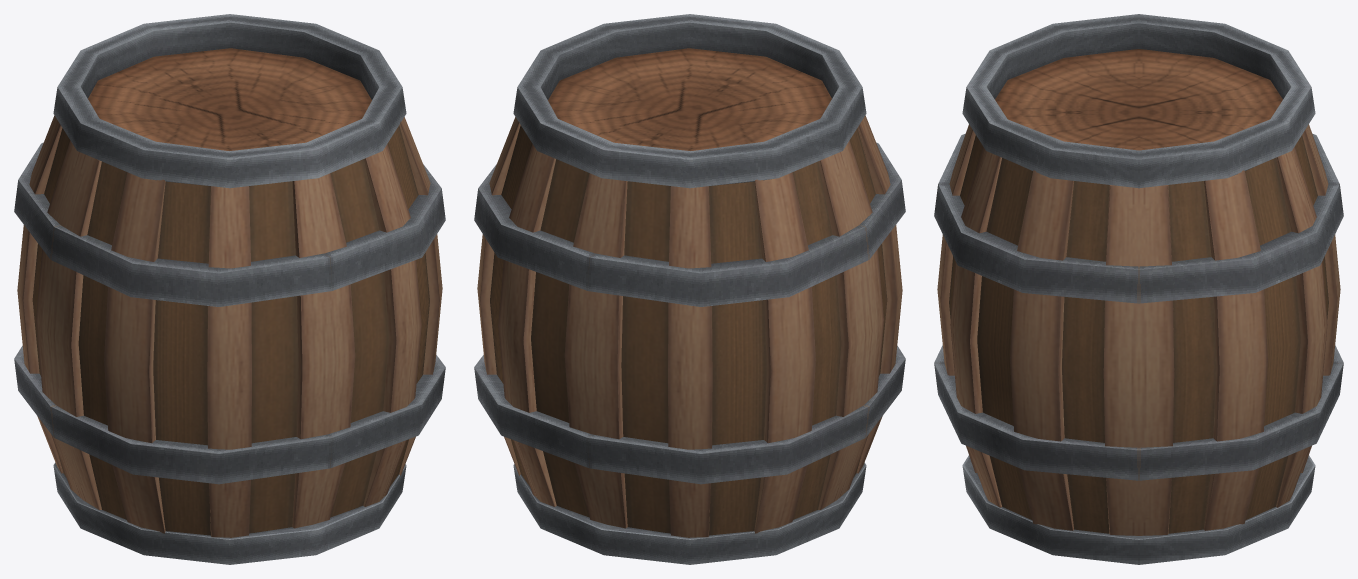
The model's file is barrel.glb.
3 views of the same model, side by side, from view 1: azimuth 30°, elevation 25°; view 2: azimuth 150°, elevation 25°; view 3: azimuth 270°, elevation 25° (orthographic).
Parts seen in each view (by area): view 1: Barrel; view 2: Barrel; view 3: Barrel.
Part boxes in pixels (left/top/right/bottom): Barrel: left=14, top=14, right=445, bottom=564; Barrel: left=474, top=14, right=905, bottom=564; Barrel: left=934, top=14, right=1343, bottom=564.
Size of the model in its own units: 1.92 by 2.07 by 1.9.
Materials: 3 (3 with a texture image).
